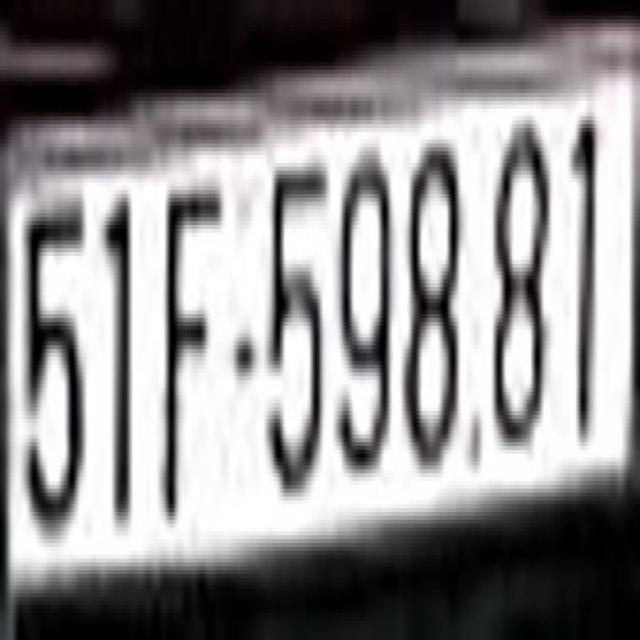1: (98, 182, 130, 520), (571, 108, 598, 450)
5: (268, 159, 328, 504), (24, 190, 84, 524)
8: (402, 144, 462, 478), (493, 120, 550, 454)
9: (340, 140, 390, 473)
F: (162, 183, 224, 532)
